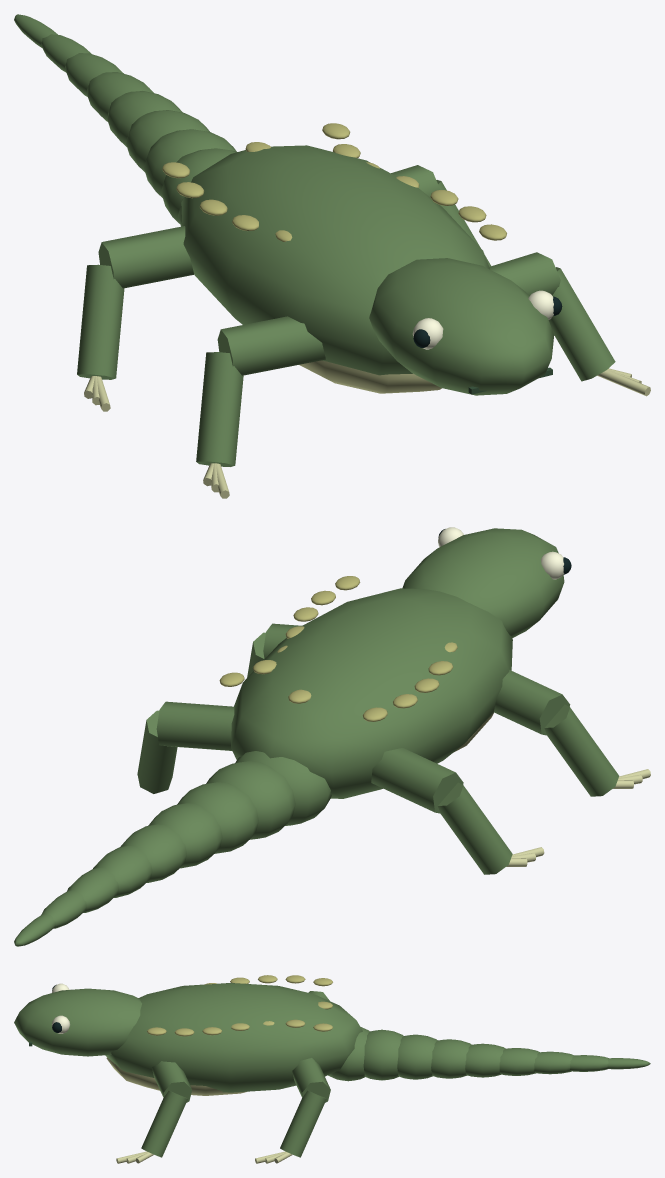
The model's file is monitor.glb.
3 views of the same model, one above another, from view 1: azimuth 30°, elevation 25°; view 2: azimuth 150°, elevation 25°; view 3: azimuth 270°, elevation 25° (orthographic). The views are drawn at different scales.
Parts seen in each view (by area): view 1: body, head, tail-scale (×8), lower (×3), upper (×4), belly; view 2: body, tail-scale (×9), head, upper (×3), lower (×3); view 3: body, tail-scale (×9), head, lower (×2), upper (×2), belly.
Boxes of the visible parts, x1,y1,x2,y2 form: body: [181, 145, 489, 375]; head: [369, 258, 554, 395]; tail-scale (×8): [14, 14, 236, 223]; lower (×3): [77, 264, 615, 466]; upper (×4): [98, 165, 560, 375]; belly: [299, 360, 441, 393]; body: [231, 588, 512, 798]; tail-scale (×9): [14, 751, 331, 946]; head: [402, 528, 564, 637]; upper (×3): [156, 670, 570, 813]; lower (×3): [137, 704, 618, 874]; body: [105, 983, 362, 1092]; tail-scale (×9): [328, 1027, 650, 1081]; head: [14, 988, 141, 1056]; lower (×2): [141, 1090, 326, 1157]; upper (×2): [152, 1058, 330, 1102]; belly: [106, 1057, 246, 1095].
Size of the model in its own units: 3.44 by 1.47 by 7.58.
